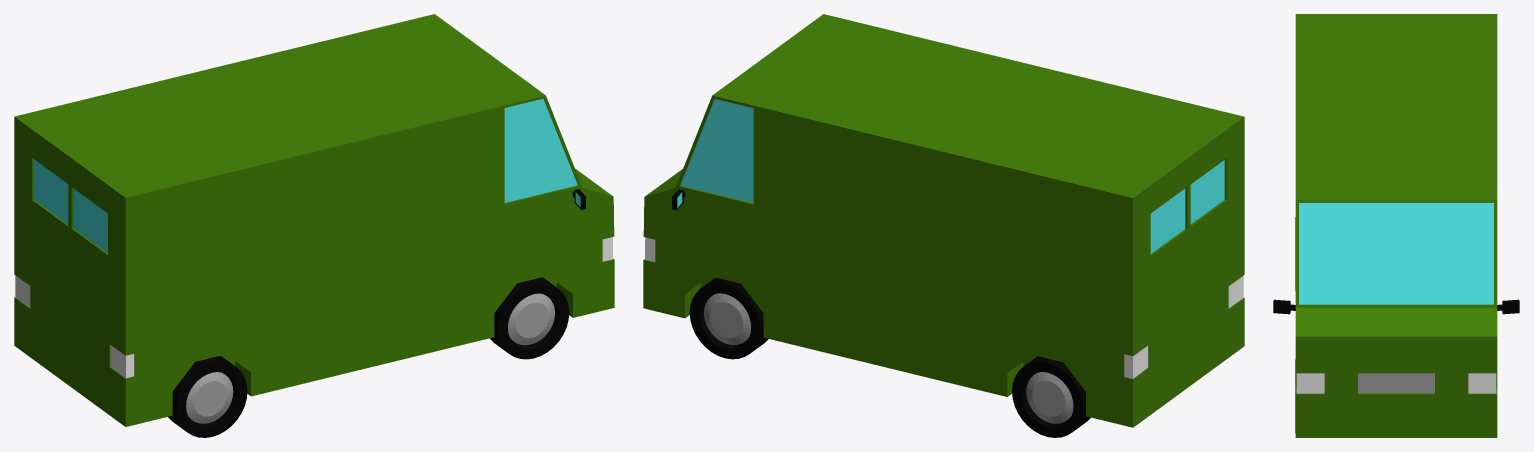
File: Car6.fbx
The picture shows the model from 3 angles, left to right: view 1: azimuth 30°, elevation 25°; view 2: azimuth 150°, elevation 25°; view 3: azimuth 270°, elevation 25°; orthographic projection. The views are drawn at different scales.
Visible parts, largest first — view 1: Car6; view 2: Car6; view 3: Car6.
Boxes of the visible parts, bbox=[...] form: Car6: bbox=[14, 14, 614, 437]; Car6: bbox=[643, 14, 1244, 437]; Car6: bbox=[1273, 14, 1519, 437].
Size of the model in its own units: 515 by 262 by 248.
